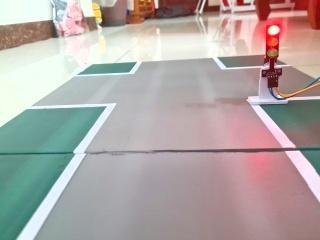red: (256, 13, 289, 81)
